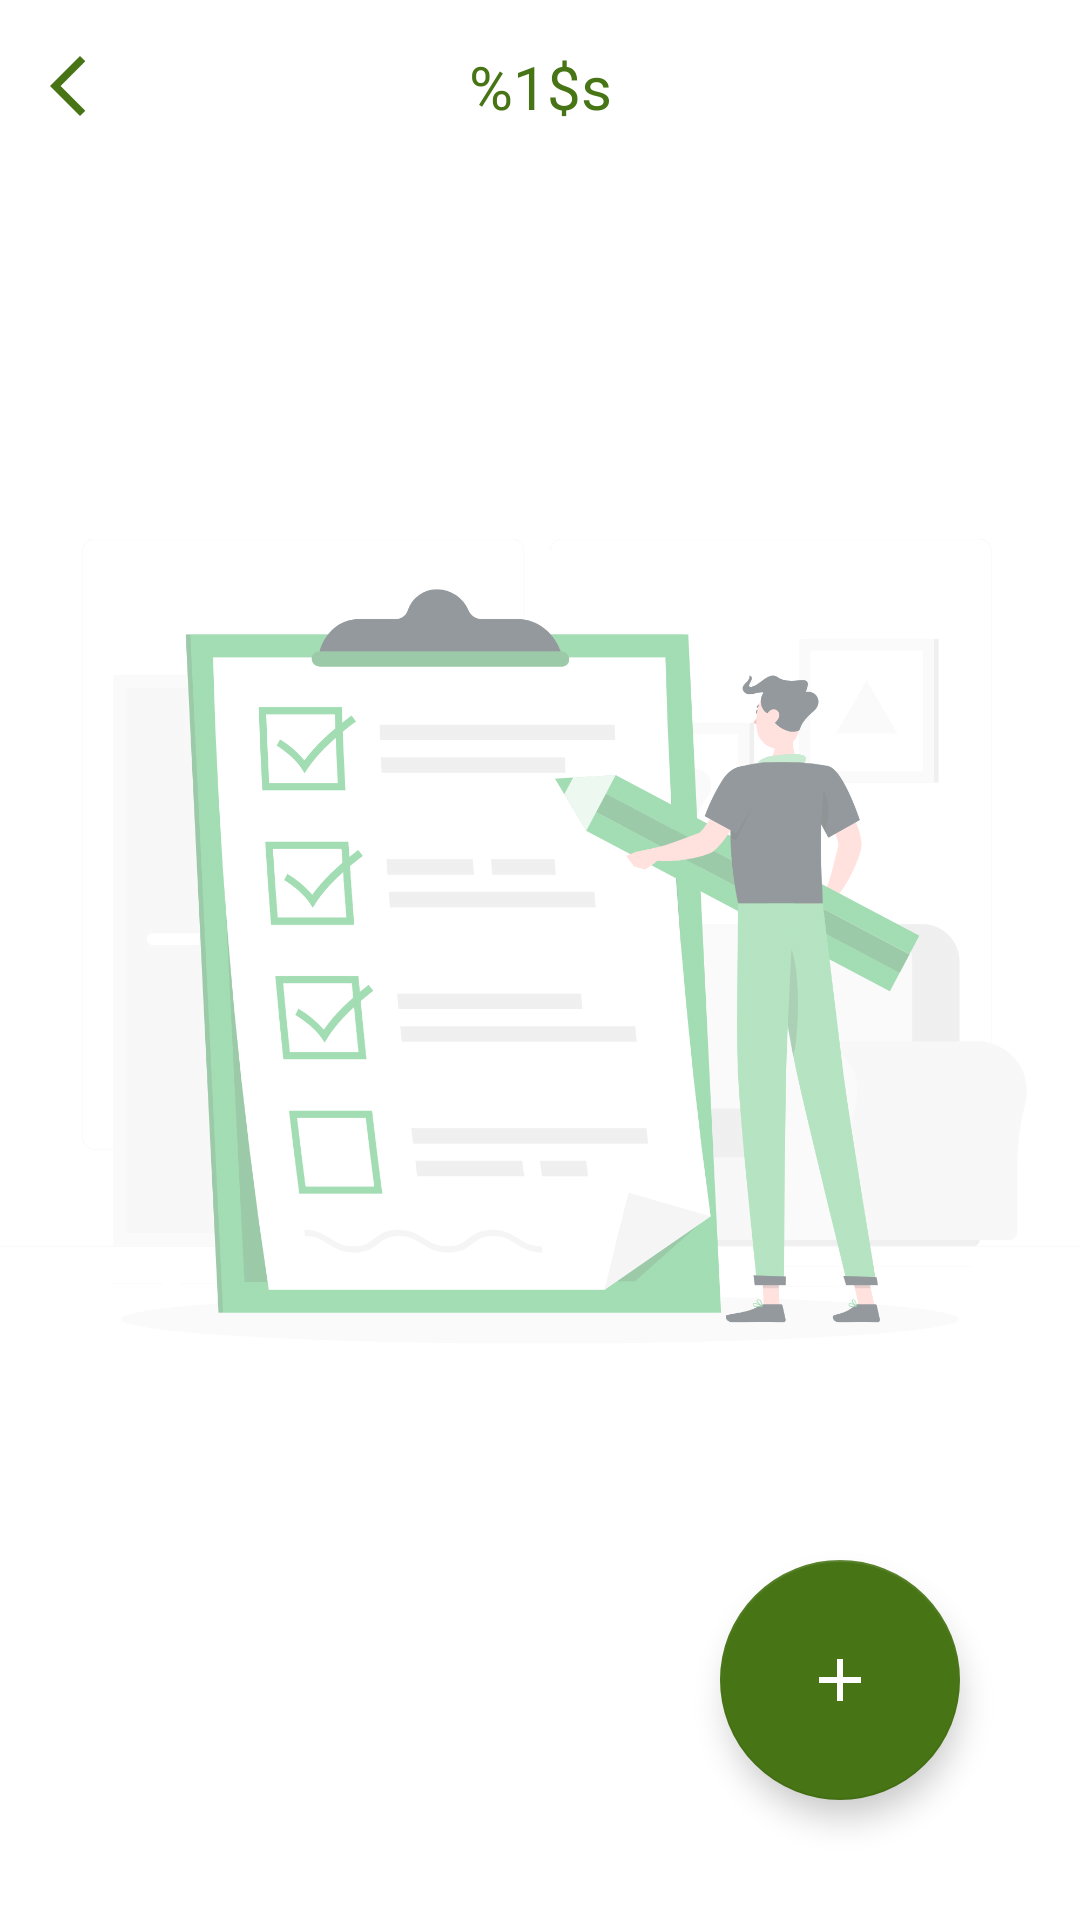

Icon click points for this 1080w x 1920h phone screenshot, format (x,y):
add: (840,1680)
